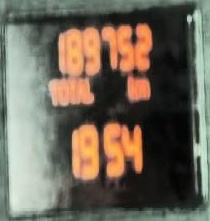1: (70, 126, 79, 177), (57, 32, 64, 72)
2: (134, 23, 151, 69)
4: (121, 123, 142, 174)
5: (102, 122, 123, 175), (116, 24, 133, 70)
7: (100, 26, 116, 69)
8: (64, 28, 82, 73)
9: (78, 123, 97, 177), (83, 27, 99, 73)
X: (127, 75, 138, 100), (57, 79, 68, 104), (137, 77, 149, 98), (47, 79, 57, 104), (83, 78, 93, 103), (75, 79, 85, 102), (67, 79, 77, 101)
